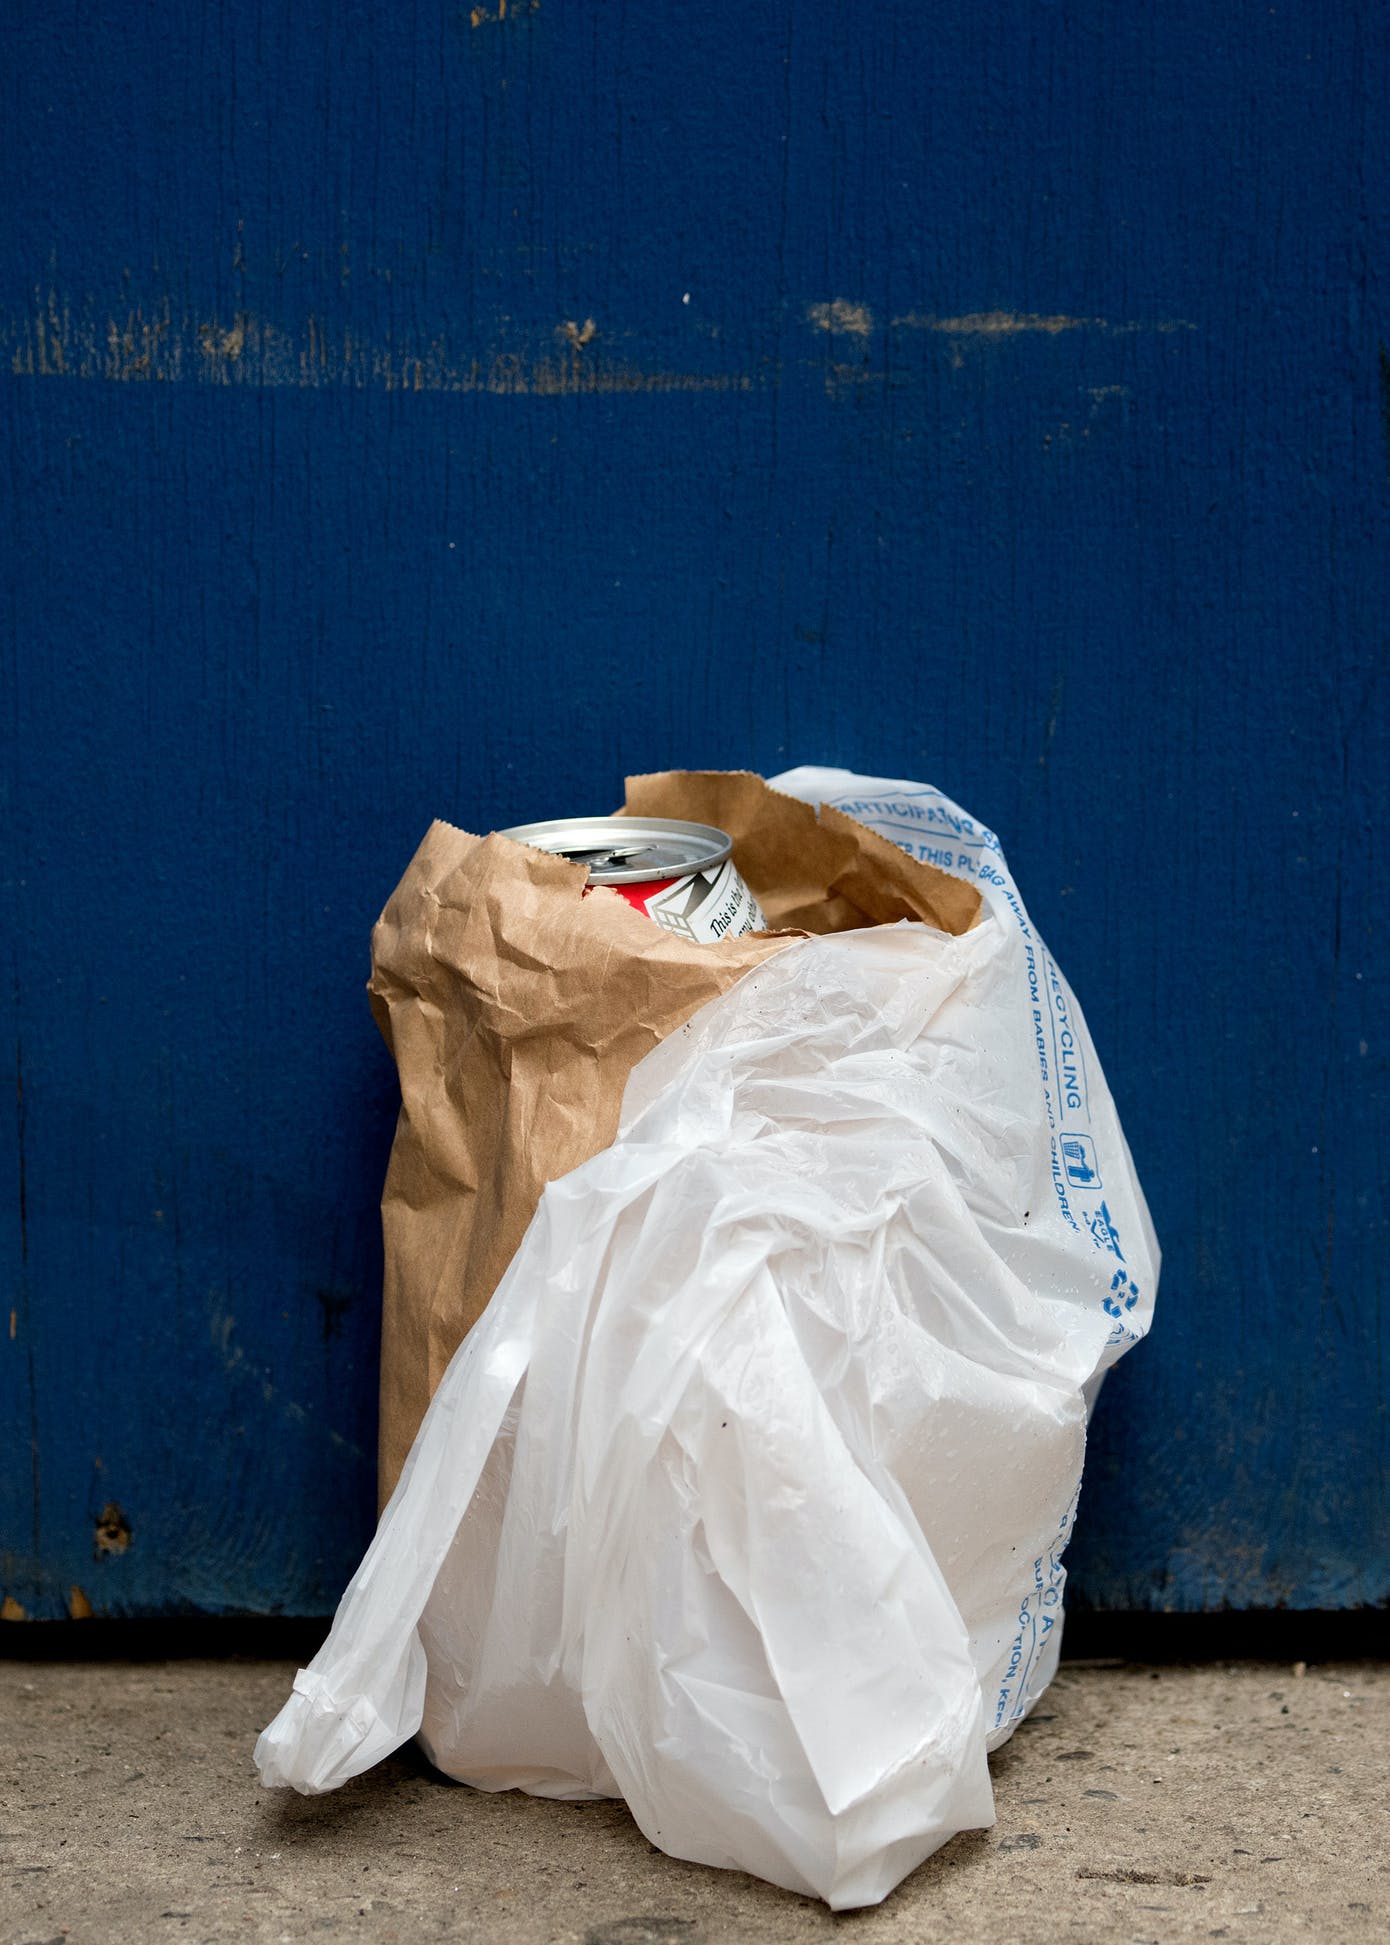plastic_bag: (236, 722, 1179, 1924)
